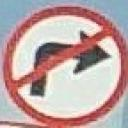NoVirarDireita: (1, 3, 128, 127)
